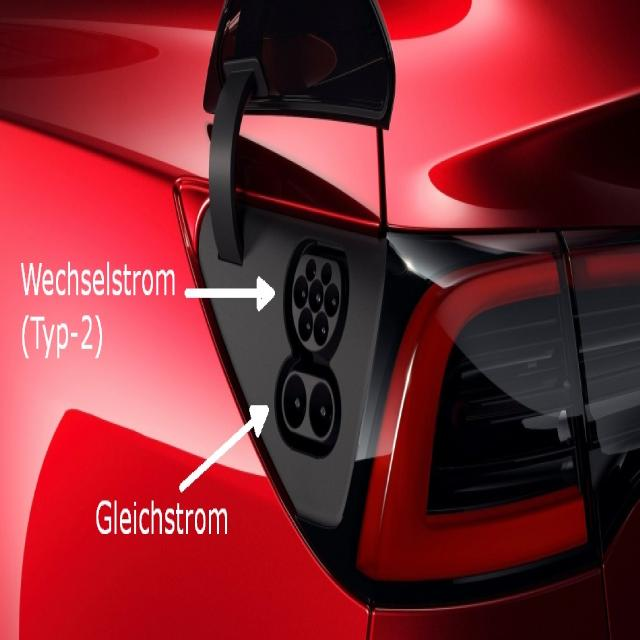inlet: (292, 255, 341, 351)
inlet-above-left: (306, 259, 316, 281)
inlet-above-right: (321, 262, 332, 285)
inlet-below-left: (298, 308, 313, 341)
inlet-below-right: (314, 311, 329, 346)
inlet-circle: (309, 279, 323, 312)
inlet-circle-left: (293, 276, 308, 308)
inlet-circle-right: (324, 283, 339, 317)
inlet-minus: (309, 382, 332, 437)
inlet-plus: (284, 374, 306, 429)
